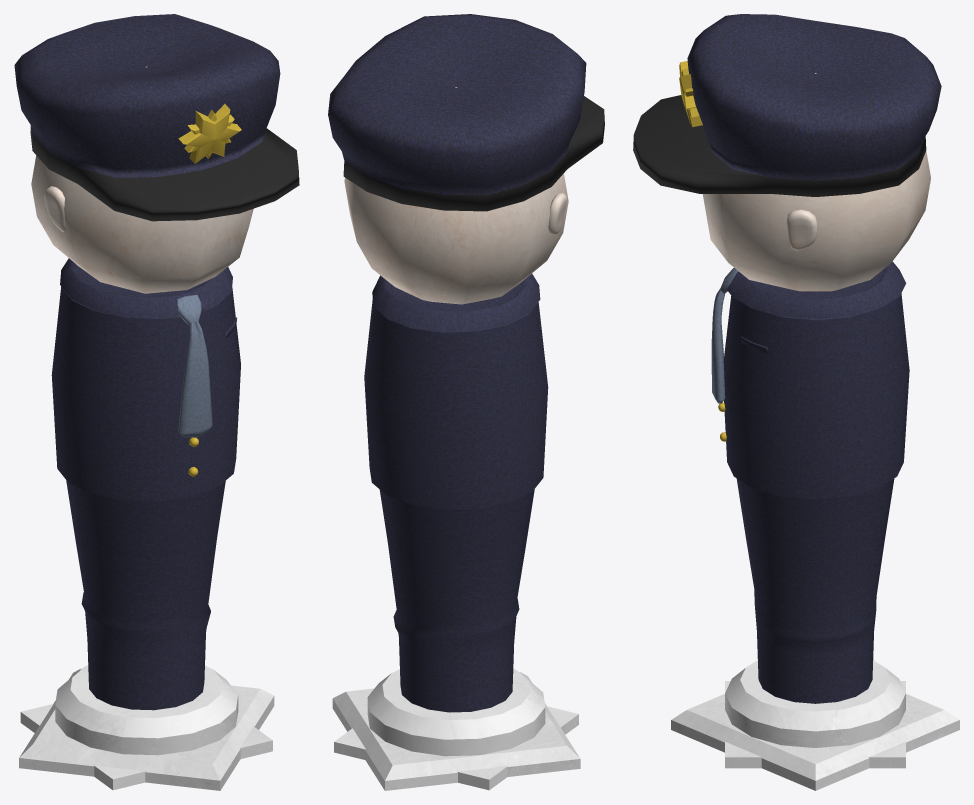
File: KeibiinModel.fbx
The picture shows the model from 3 angles, left to right: view 1: azimuth 30°, elevation 25°; view 2: azimuth 150°, elevation 25°; view 3: azimuth 270°, elevation 25°; orthographic projection. The views are drawn at different scales.
Parts seen in each view (by area): view 1: keibiin; view 2: keibiin; view 3: keibiin.
Boxes of the visible parts, x1,y1,x2,y2 form: keibiin: (14,14,299,790); keibiin: (328,14,604,790); keibiin: (633,14,959,790).
Bounding box in the file's own units: 75.31 × 198 × 85.24.
